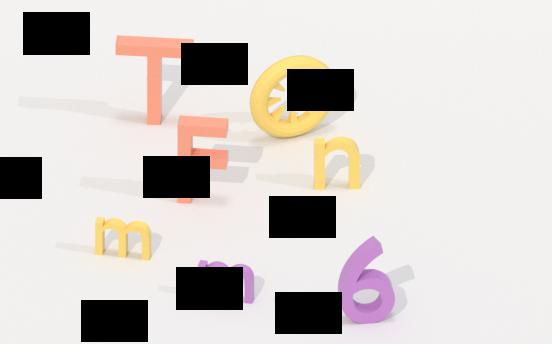6: (334, 236, 400, 324)
F: (171, 114, 236, 205)
m: (192, 256, 259, 306), (91, 215, 156, 264)
n: (313, 134, 365, 194)
t-hoa: (107, 31, 203, 128)
tron: (243, 56, 344, 139)
